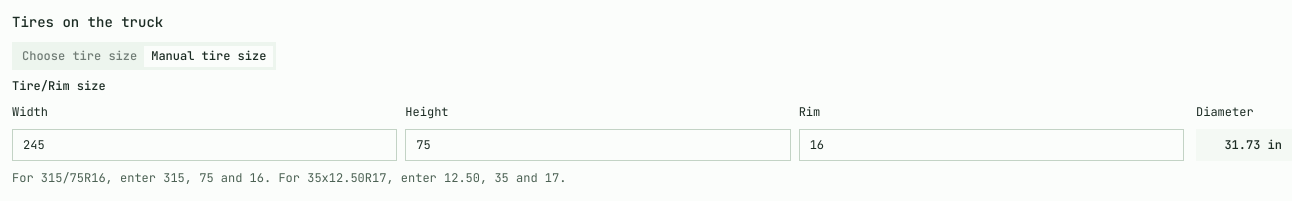
Test: TireSizeFields › Choose tire size › shows the size as text when it is not listed
This screenshot has width=1292, height=201.
Click the tab "Choose tire size": (80, 56) [15,46,144,66]
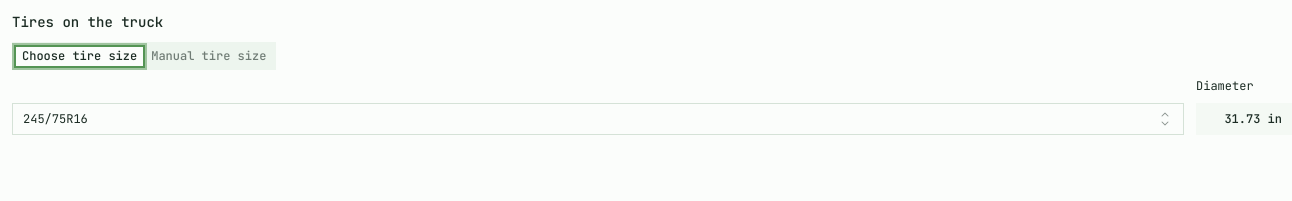
Expected: the dropdown named "Tires on the truck " reads "245/75R16", [12,102,1184,134]
